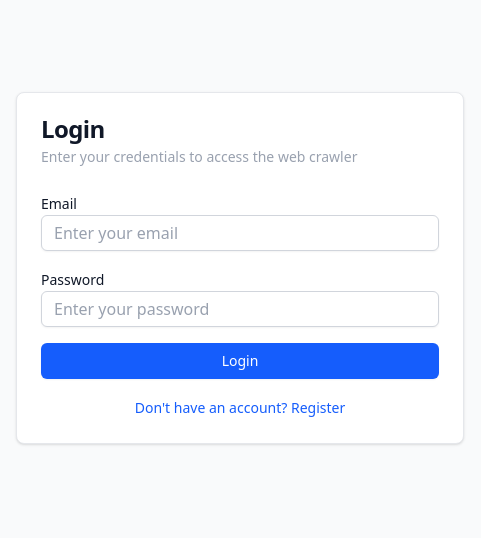
it: Authentication › Registration Flow › should switch to registration form
The width and height of the screenshot is (481, 538).
What coordinates should you click on to do the following:
click the button with test id "login-switch-register"
I would click on:
 (241, 408)
Its box is [135,398,346,418].
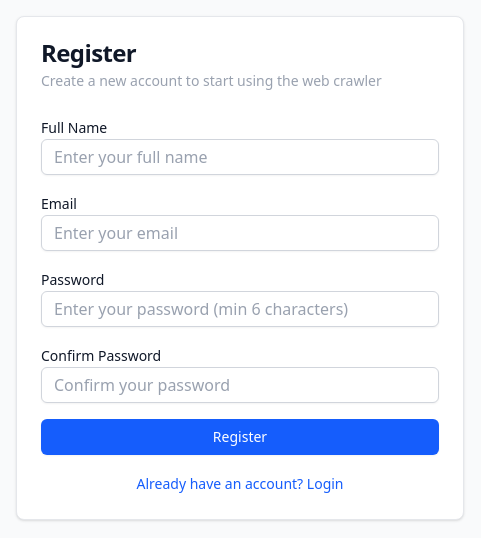
expect the heading "Register" is shown: met, box [41,36,136,69]
expect the field with test id "register-name" is shown: met, box [41,139,439,175]
expect the password field with test id "register-password" is shown: met, box [41,291,439,327]
